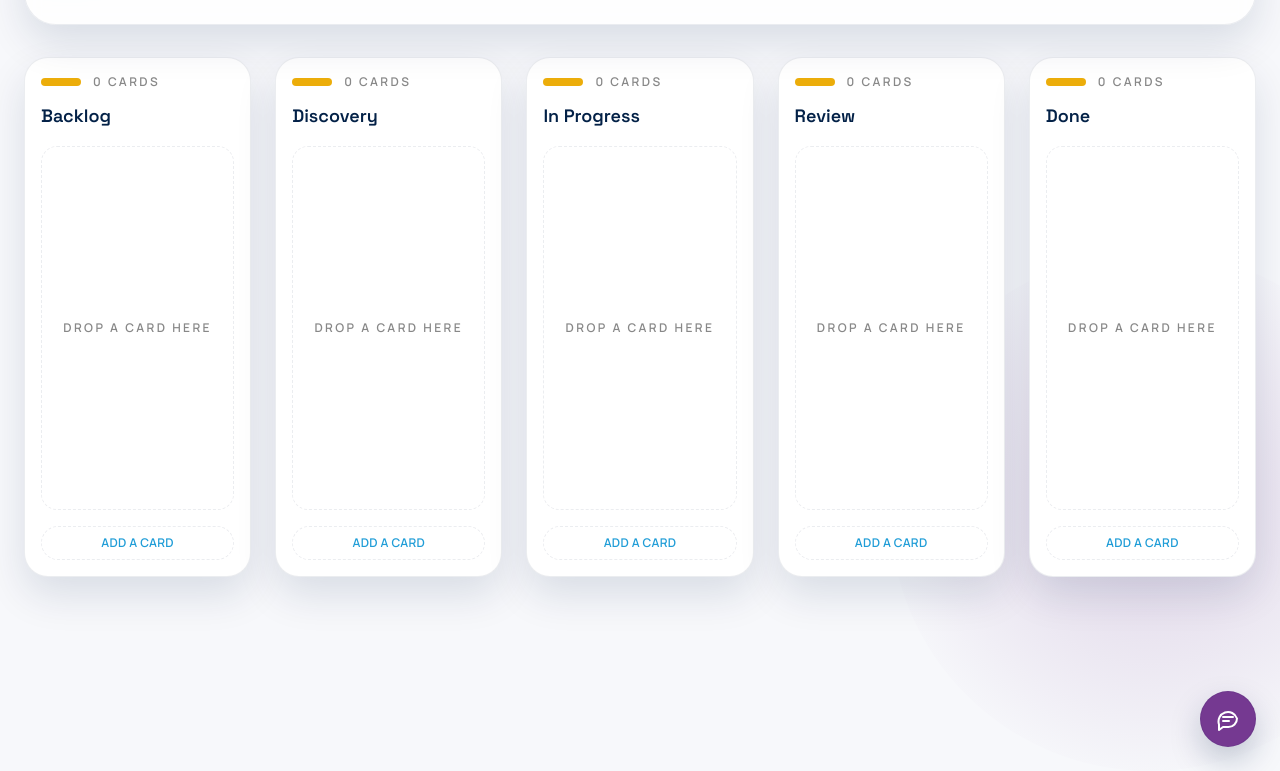
Test: KanbanBoard › adds and removes a card
The image size is (1280, 771).
(page scrolled)
Click the 1st button "Add a card". click: [138, 543]
box: top-left (41, 526), bottom-right (234, 560)
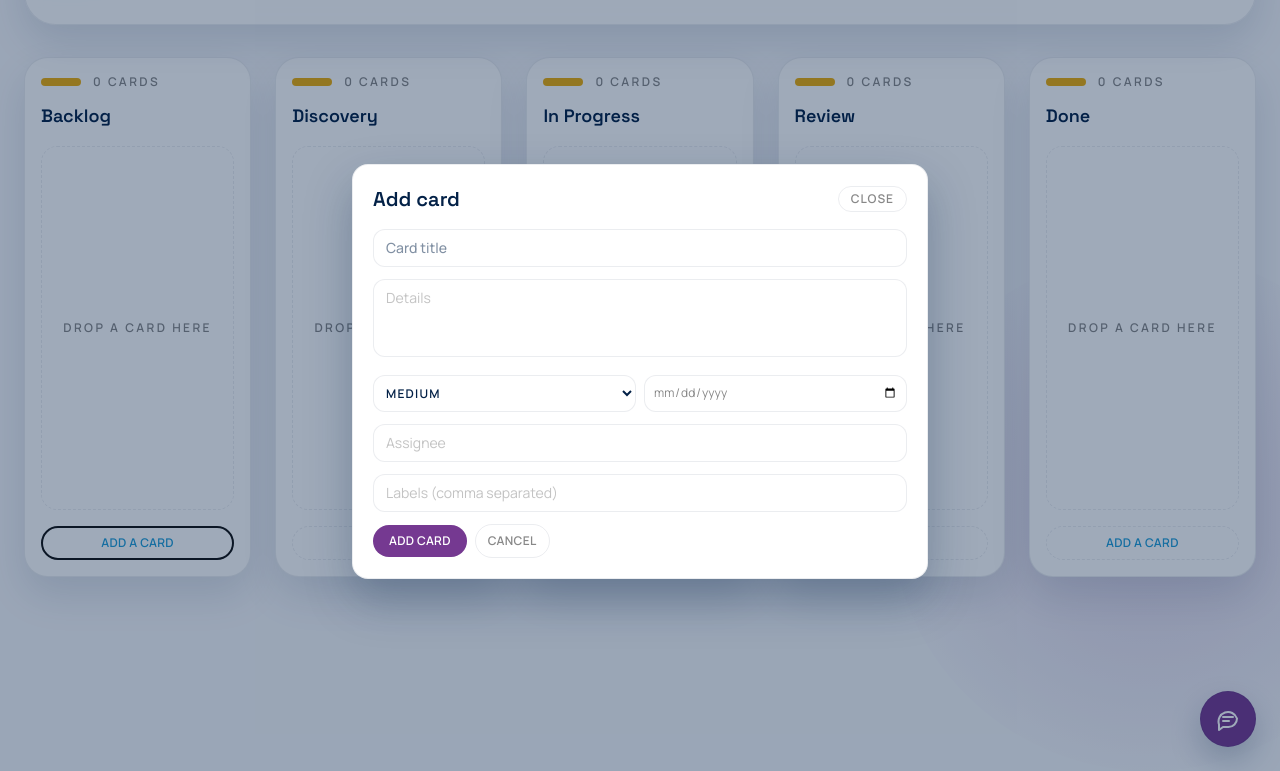
Type "New card" into the field with placeholder "Card title". click: [640, 248]
box: top-left (373, 228), bottom-right (907, 266)
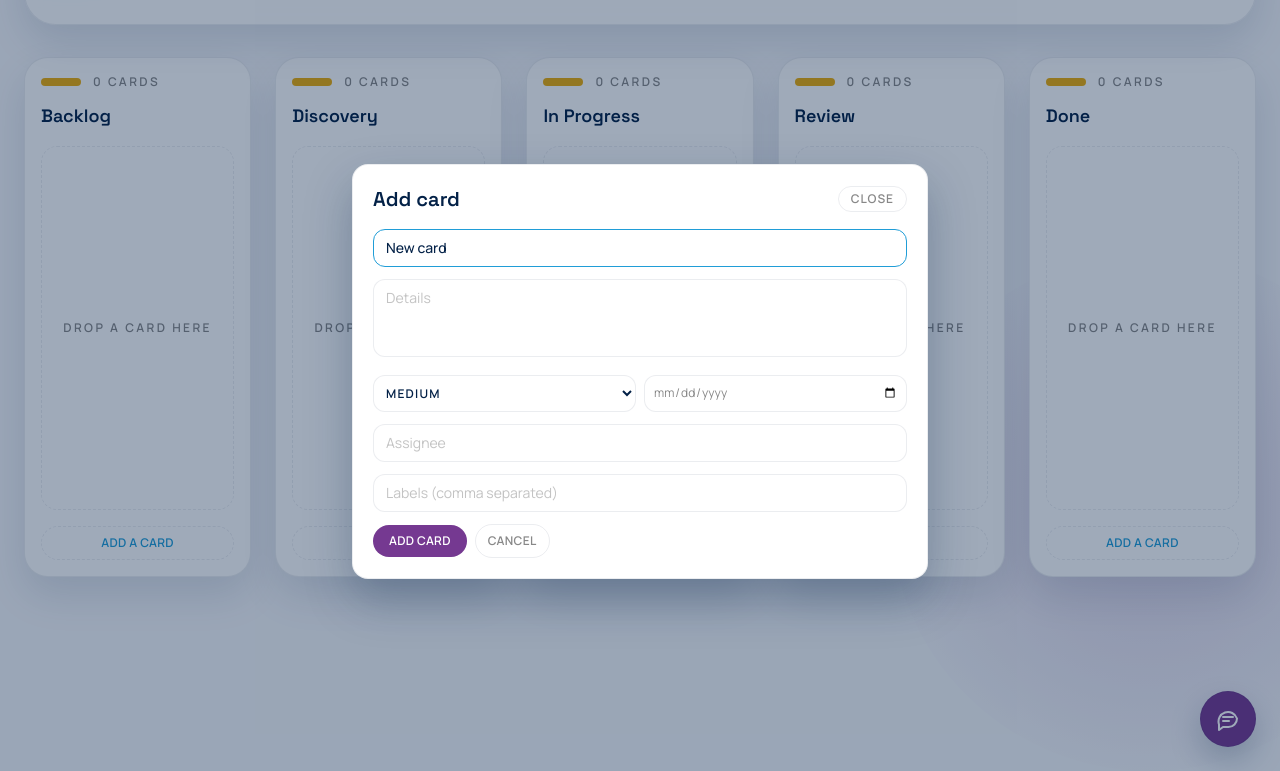
Type "Notes" into the text box with placeholder "Details". click: [640, 318]
box: top-left (373, 278), bottom-right (907, 356)
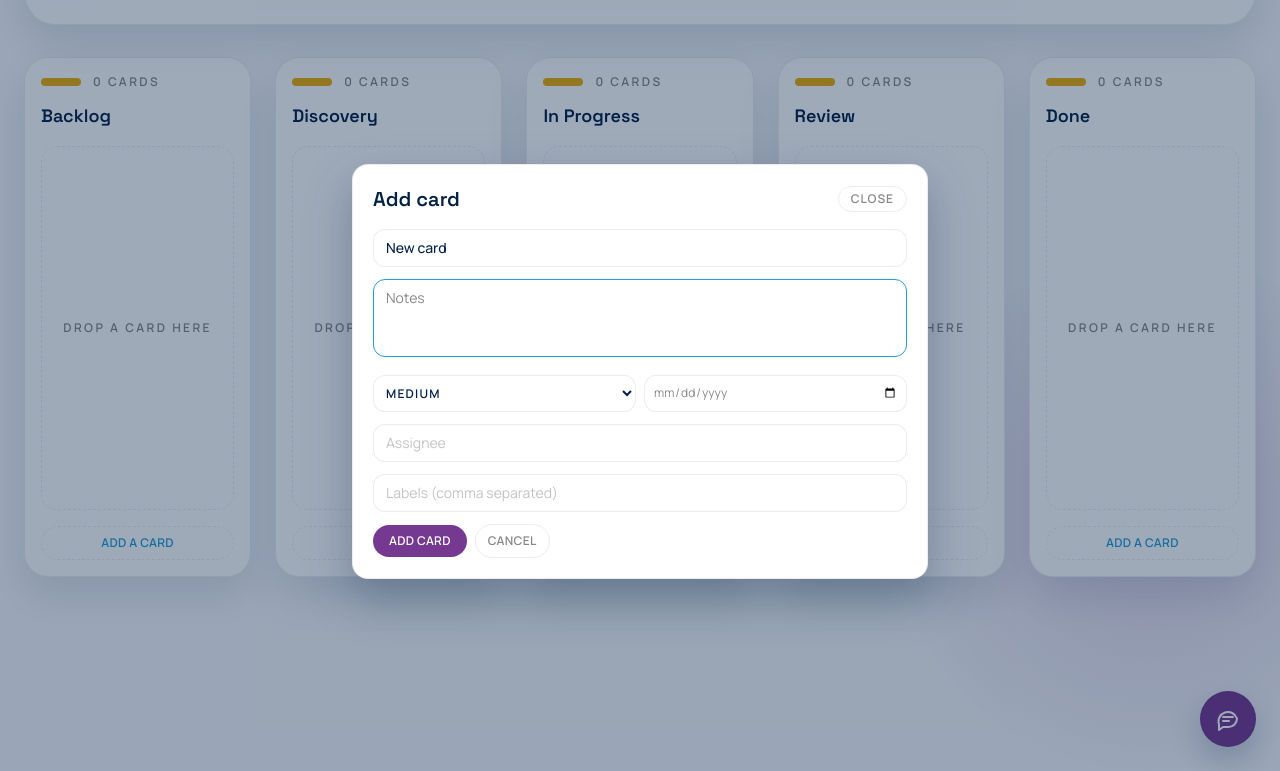
Click the button "Add card". click: [420, 540]
box: top-left (373, 524), bottom-right (467, 556)
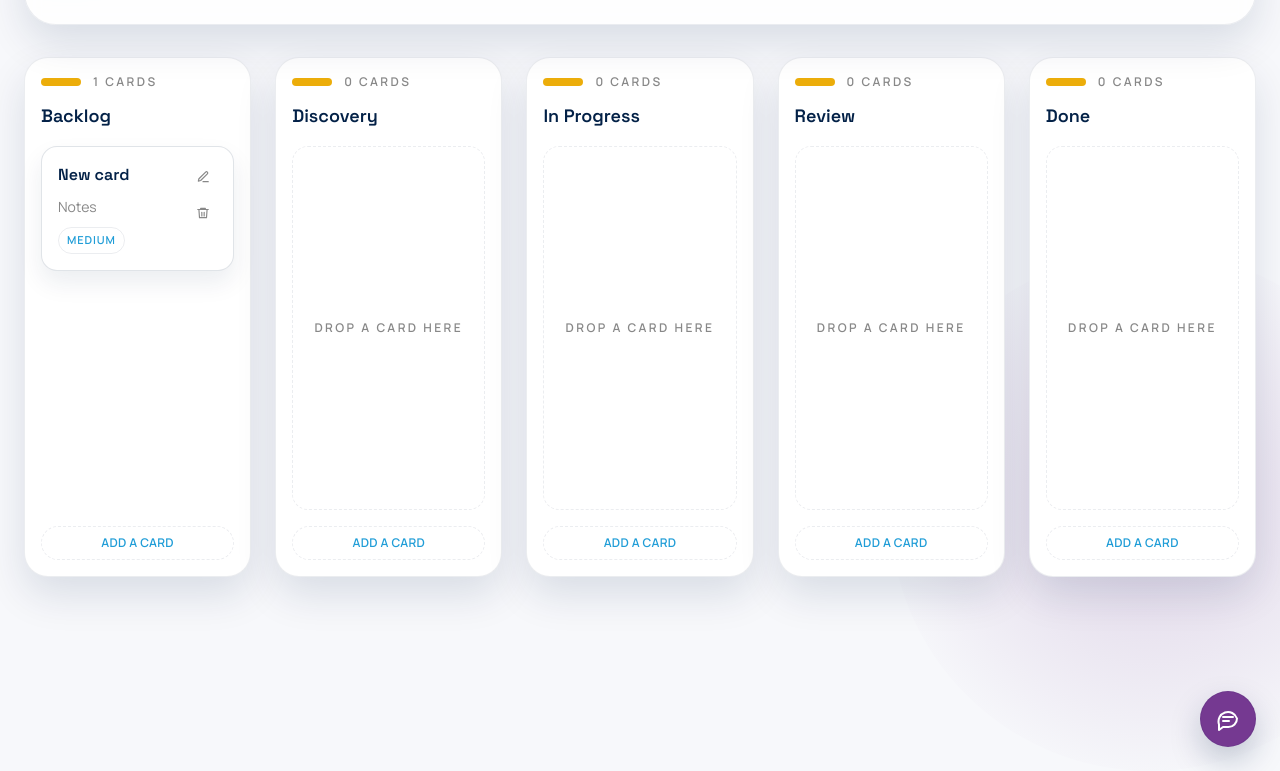
expect the heading "New card" is shown: met, box top-left (58, 164), bottom-right (130, 185)
Click the button named "delete new card". click: [203, 213]
box: top-left (189, 199), bottom-right (217, 227)
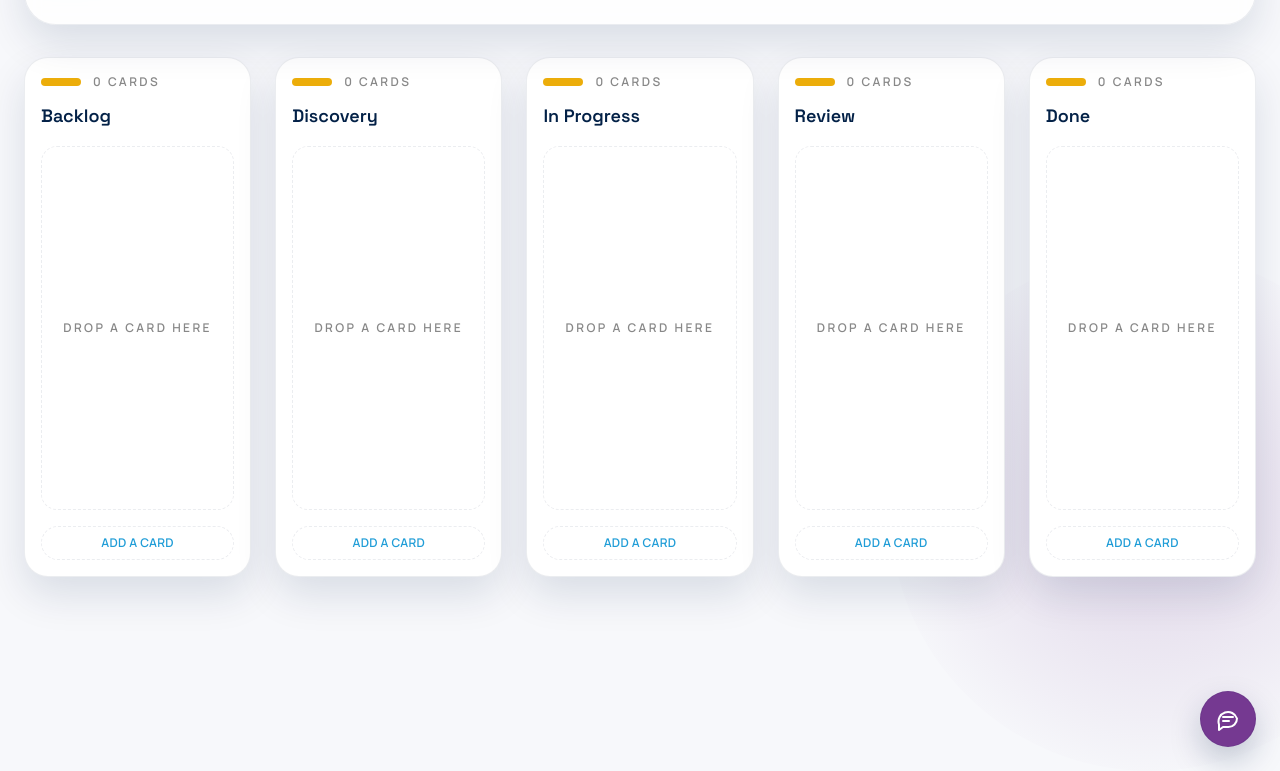
expect the button "New card" is gone: met
